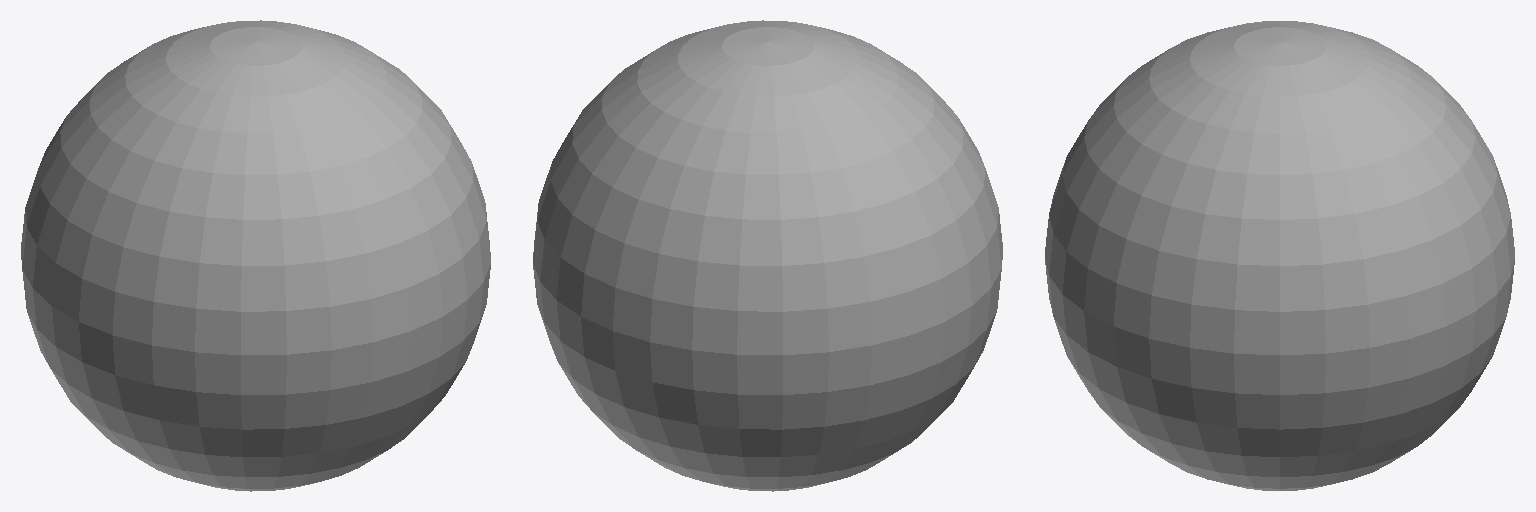
robot.urdf — kuka_iiwa:
<?xml version="1.0" ?>
<!--Autogenerated by "taco/models/sdf2urdf" converter from "../kuka_iiwa/kuka_iiwa.sdf"-->
<robot name="kuka_iiwa">
    <link name="base_link">
        <inertial>
            <origin xyz="0 0 0.14" rpy="0 -0 0" />
            <mass value="4" />
            <inertia ixx="0.4" iyy="0.4" izz="0.4" ixy="0" ixz="0" iyz="0" />
        </inertial>
        <visual>
            <origin xyz="0 0 0" rpy="0 -0 0" />
            <geometry>
                <mesh filename="../../../Model/meshes_iiwa/base.obj" scale="1 1 1" />
            </geometry>
        </visual>
        <!-- <collision>
            <origin xyz="0 0 0" rpy="0 -0 0" />
            <geometry>
                <mesh filename="../../../Model/meshes_iiwa/base.obj" scale="1 1 1" />
            </geometry>
        </collision> -->
    </link>
    <link name="link0">
        <inertial>
            <origin xyz="0 0 0.14" rpy="0 -0 0" />
            <mass value="4" />
            <inertia ixx="0.4" iyy="0.4" izz="0.4" ixy="0" ixz="0" iyz="0" />
        </inertial>
        <visual>
            <origin xyz="0 0 0" rpy="0 -0 0" />
            <geometry>
                <mesh filename="../../../Model/meshes_iiwa/link0.obj" scale="1 1 1" />
            </geometry>
        </visual>
        <!-- <collision>
            <origin xyz="0 0 0" rpy="0 -0 0" />
            <geometry>
                <mesh filename="../../../Model/meshes_iiwa/link0.obj" scale="1 1 1" />
            </geometry>
        </collision> -->
    </link>
    <link name="link1">
        <inertial>
            <origin xyz="0 0 0.14" rpy="0 -0 0" />
            <mass value="4" />
            <inertia ixx="0.4" iyy="0.4" izz="0.4" ixy="0" ixz="0" iyz="0" />
        </inertial>
        <visual>
            <origin xyz="0 0 0" rpy="0 -0 0" />
            <geometry>
                <mesh filename="../../../Model/meshes_iiwa/link1.obj" scale="1 1 1" />
            </geometry>
        </visual>
        <!-- <collision>
            <origin xyz="0 0 0" rpy="0 -0 0" />
            <geometry>
                <mesh filename="../../../Model/meshes_iiwa/link1.obj" scale="1 1 1" />
            </geometry>
        </collision> -->
    </link>
    <link name="link2">
        <inertial>
            <origin xyz="0 0 0.14" rpy="0 -0 0" />
            <mass value="4" />
            <inertia ixx="0.4" iyy="0.4" izz="0.4" ixy="0" ixz="0" iyz="0" />
        </inertial>
        <visual>
            <origin xyz="0 0 0" rpy="0 -0 0" />
            <geometry>
                <mesh filename="../../../Model/meshes_iiwa/link2.obj" scale="1 1 1" />
            </geometry>
        </visual>
        <!-- <collision>
            <origin xyz="0 0 0" rpy="0 -0 0" />
            <geometry>
                <mesh filename="../../../Model/meshes_iiwa/link2.obj" scale="1 1 1" />
            </geometry>
        </collision> -->
    </link>
    <link name="link3">
        <inertial>
            <origin xyz="0 0 0.14" rpy="0 0 0" />
            <mass value="4" />
            <inertia ixx="0.4" iyy="0.4" izz="0.4" ixy="0" ixz="0" iyz="0" />
        </inertial>
        <visual>
            <origin xyz="0 0 0" rpy="0 0 3.1415926535897" />
            <geometry>
                <mesh filename="../../../Model/meshes_iiwa/link3.obj" scale="1 1 1" />
            </geometry>
        </visual>
        <!-- <collision>
            <origin xyz="0 0 0" rpy="0 -0 0" />
            <geometry>
                <mesh filename="../../../Model/meshes_iiwa/link3.obj" scale="1 1 1" />
            </geometry>
        </collision> -->
    </link>
    <link name="link4">
        <inertial>
            <origin xyz="0 0 0.14" rpy="0 0 0" />
            <mass value="3" />
            <inertia ixx="0.3" iyy="0.3" izz="0.3" ixy="0" ixz="0" iyz="0" />
        </inertial>
        <visual>
            <origin xyz="0 0 0" rpy="0 0 0" />
            <geometry>
                <mesh filename="../../../Model/meshes_iiwa/link4.obj" scale="1 1 1" />
            </geometry>
        </visual>
        <!-- <collision>
            <origin xyz="0 0 0" rpy="0 -0 0" />
            <geometry>
                <mesh filename="../../../Model/meshes_iiwa/link4.obj" scale="1 1 1" />
            </geometry>
        </collision> -->
    </link>
    <link name="link5">
        <inertial>
            <origin xyz="0 0 0.14" rpy="0 0 0" />
            <mass value="2" />
            <inertia ixx="0.2" iyy="0.2" izz="0.2" ixy="0" ixz="0" iyz="0" />
        </inertial>
        <visual>
            <origin xyz="0 -0.06 0" rpy="0 0 0" />
            <geometry>
                <mesh filename="../../../Model/meshes_iiwa/link5.obj" scale="1 1 1" />
            </geometry>
        </visual>
        <collision>
            <origin xyz="0 -0.06 0" rpy="0 -0 0" />
            <geometry>
                <mesh filename="../../../Model/meshes_iiwa/link5.obj" scale="1 1 1" />
            </geometry>
        </collision>
    </link>
    <link name="link6">
        <inertial>
            <origin xyz="0 0 0.03" rpy="0 0 0" />
            <mass value="1" />
            <inertia ixx="0.1" iyy="0.1" izz="0.1" ixy="0" ixz="0" iyz="0" />
        </inertial>
        <visual>
            <origin xyz="0 0 0" rpy="0 0 0" />
            <geometry>
                <mesh filename="../../../Model/meshes_iiwa/link6.obj" scale="1 1 1" />
            </geometry>
        </visual>
        <visual>
            <origin xyz="0 0 0.04" rpy = "0 0 0" />
            <geometry>
                <sphere radius="0.05" />
            </geometry>
        </visual>
        <collision>
            <origin xyz="0 0 0.04" rpy = "0 0 0" />
            <geometry>
                <sphere radius="0.05" />
            </geometry>
        </collision>
    </link>
    <joint name="j0" type="revolute">
        <parent link="base_link" />
        <child link="link0" />
        <origin xyz="0.000000 0.000000 0.155767" rpy="0.000000 0.000000 0.000000" />
        <axis xyz="0 0 1" />
        <limit lower="-2.967" upper="2.967" effort="176" velocity="1.7104" />
    </joint>
    <joint name="j1" type="revolute">
        <parent link="link0" />
        <child link="link1" />
        <origin xyz="0.000000 0.000000 0.182500" rpy="0.000000 0.000000 0.000000" />
        <axis xyz="0 1 0" />
        <limit lower="-2.0944" upper="2.0944" effort="176" velocity="1.7104" />
    </joint>
    <joint name="j2" type="revolute">
        <parent link="link1" />
        <child link="link2" />
        <origin xyz="0.000000 0.000000 0.185000" rpy="0.000000 0.000000 0.000000" />
        <axis xyz="0 0 1" />
        <limit lower="-2.967" upper="2.967" effort="110" velocity="1.7453" />
    </joint>
    <joint name="j3" type="revolute">
        <parent link="link2" />
        <child link="link3" />
        <origin xyz="0.000000 0.000000 0.217000" rpy="0.000000 0.000000 3.1415926535897" />
        <axis xyz="0 1 0" />
        <limit lower="-2.0944" upper="2.0944" effort="110" velocity="2.2689" />
    </joint>
    <joint name="j4" type="revolute">
        <parent link="link3" />
        <child link="link4" />
        <origin xyz="0.000000 0.000000 0.186000" rpy="0.000000 0.000000 -3.1415926535897" />
        <axis xyz="0 0 1" />
        <limit lower="-2.967" upper="2.967" effort="110" velocity="2.4434" />
    </joint>
    <joint name="j5" type="revolute">
        <parent link="link4" />
        <child link="link5" />
        <origin xyz="0.000000 0.000000 0.217003" rpy="0.000000 0.000000 0.000000" />
        <axis xyz="0 1 0" />
        <limit lower="-2.0944" upper="2.0944" effort="40" velocity="3.1416" />
    </joint>
    <joint name="j6" type="revolute">
        <parent link="link5" />
        <child link="link6" />
        <origin xyz="0.000000 0.000000 0.081000" rpy="0.000000 0.000000 0.000000" />
        <axis xyz="0 0 1" />
        <limit lower="-3.0543" upper="3.0543" effort="40" velocity="3.1416" />
    </joint>
</robot>

--- Facts derived from the render (not from the file) ---
3 views of the same robot in one strip: view 1: azimuth 30°, elevation 25°; view 2: azimuth 150°, elevation 25°; view 3: azimuth 270°, elevation 25° (orthographic).
Robot: kuka_iiwa — 8 links, 7 joints (7 revolute); root link base_link; default pose: every joint at zero.
Links seen in each view (by area): view 1: link6; view 2: link6; view 3: link6.
Boxes of the visible links, x1,y1,x2,y2 form: link6: (21,20,490,491); link6: (533,20,1002,491); link6: (1045,21,1514,490).
Bounding box of the posed robot: 0.1 × 0.1 × 0.1 m (x, y, z).
Geometry: only primitive shapes (box / cylinder / sphere) drawn; not drawn: 8 mesh visuals (reference in a form the renderer does not follow).